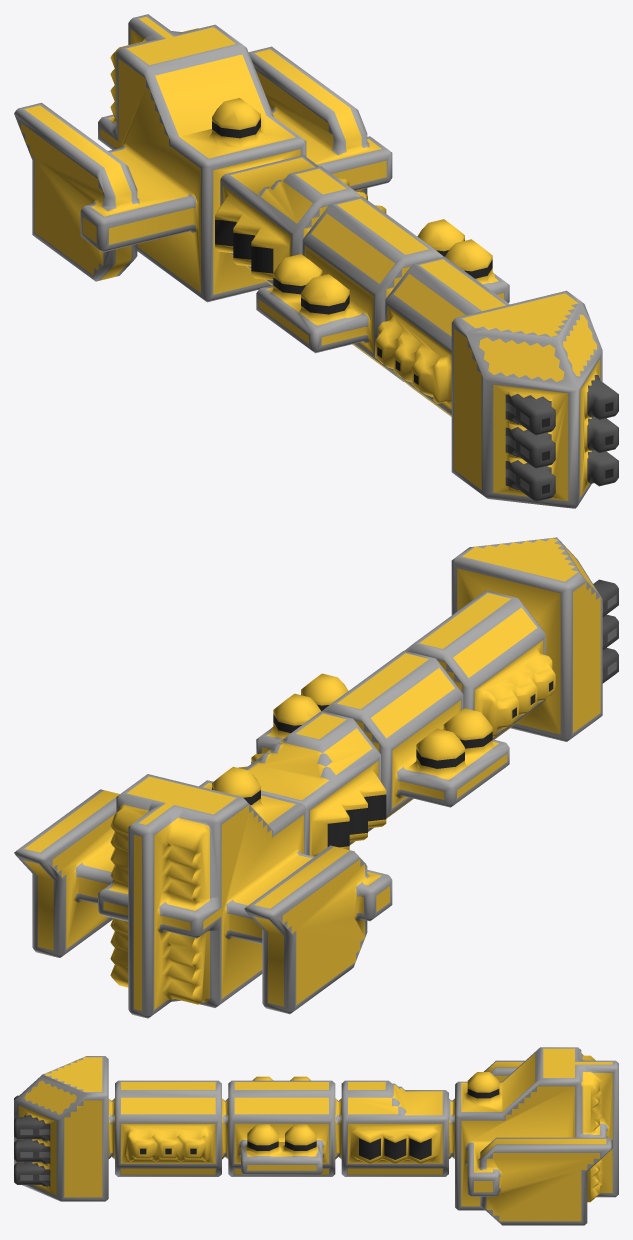
Rendered from mechyrdia-5-earth-class.obj.
3 renders of one model, top to bottom at view 1: azimuth 30°, elevation 25°; view 2: azimuth 150°, elevation 25°; view 3: azimuth 270°, elevation 25°, orthographic. The views are drawn at different scales.
Size of the model in its own units: 37 by 23 by 96.
1 material, 1 textured.
